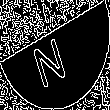N_NW: (34, 24, 76, 86)
